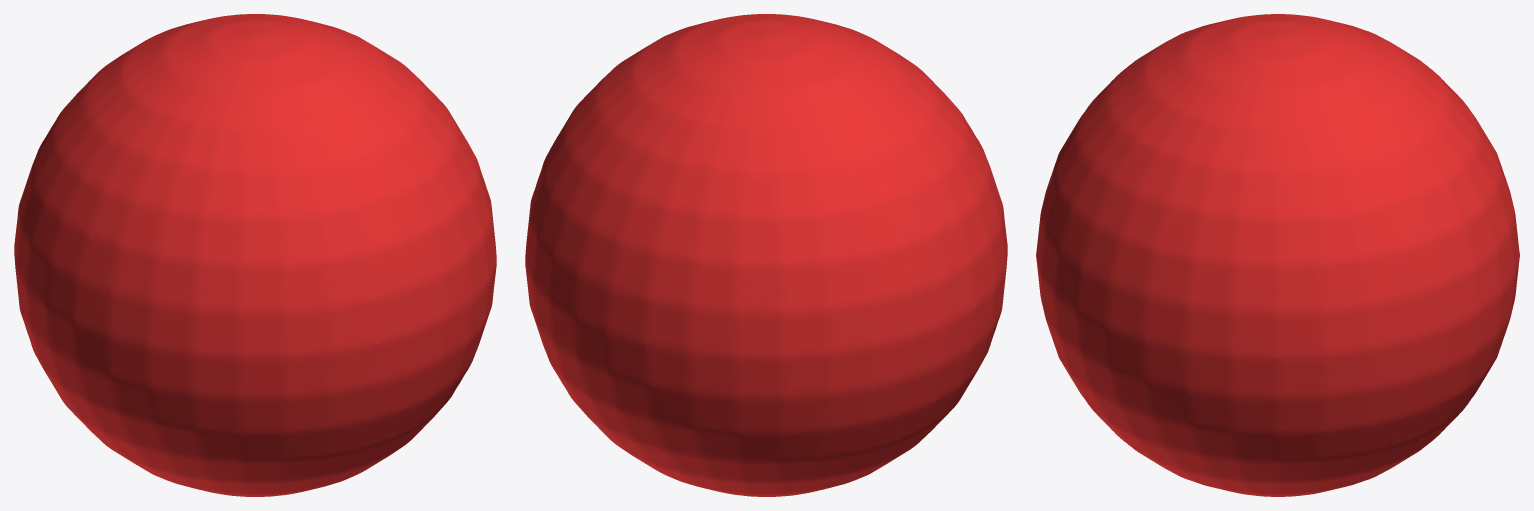
3 views of the same model, side by side, from view 1: azimuth 30°, elevation 25°; view 2: azimuth 150°, elevation 25°; view 3: azimuth 270°, elevation 25° (orthographic).
Parts seen in each view (by area): view 1: Sphere; view 2: Sphere; view 3: Sphere.
Part boxes in pixels (x1,y1,x2,y2): Sphere: (14, 14, 496, 496); Sphere: (525, 14, 1007, 496); Sphere: (1036, 14, 1519, 496).
Bounding box in the file's own units: 2 × 2 × 2.
